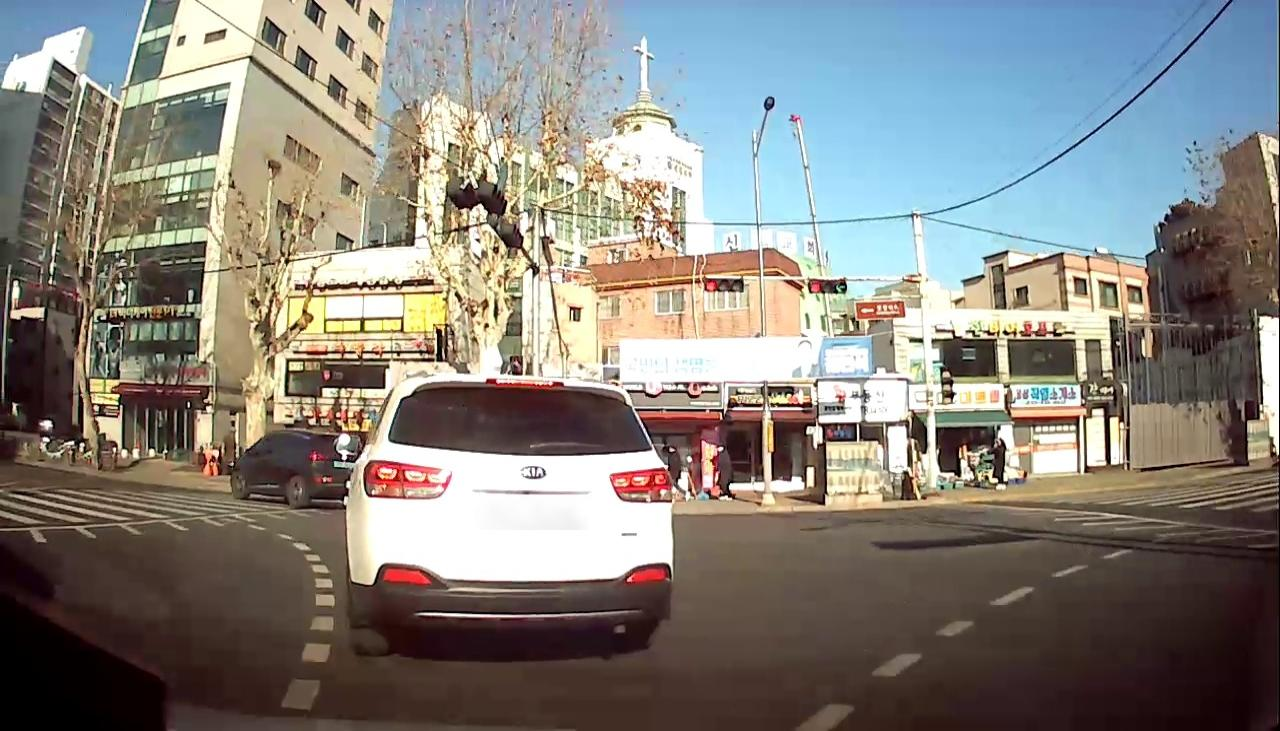Left turn: (835, 280, 847, 294)
Red Light: (809, 280, 822, 294), (705, 279, 718, 291)
